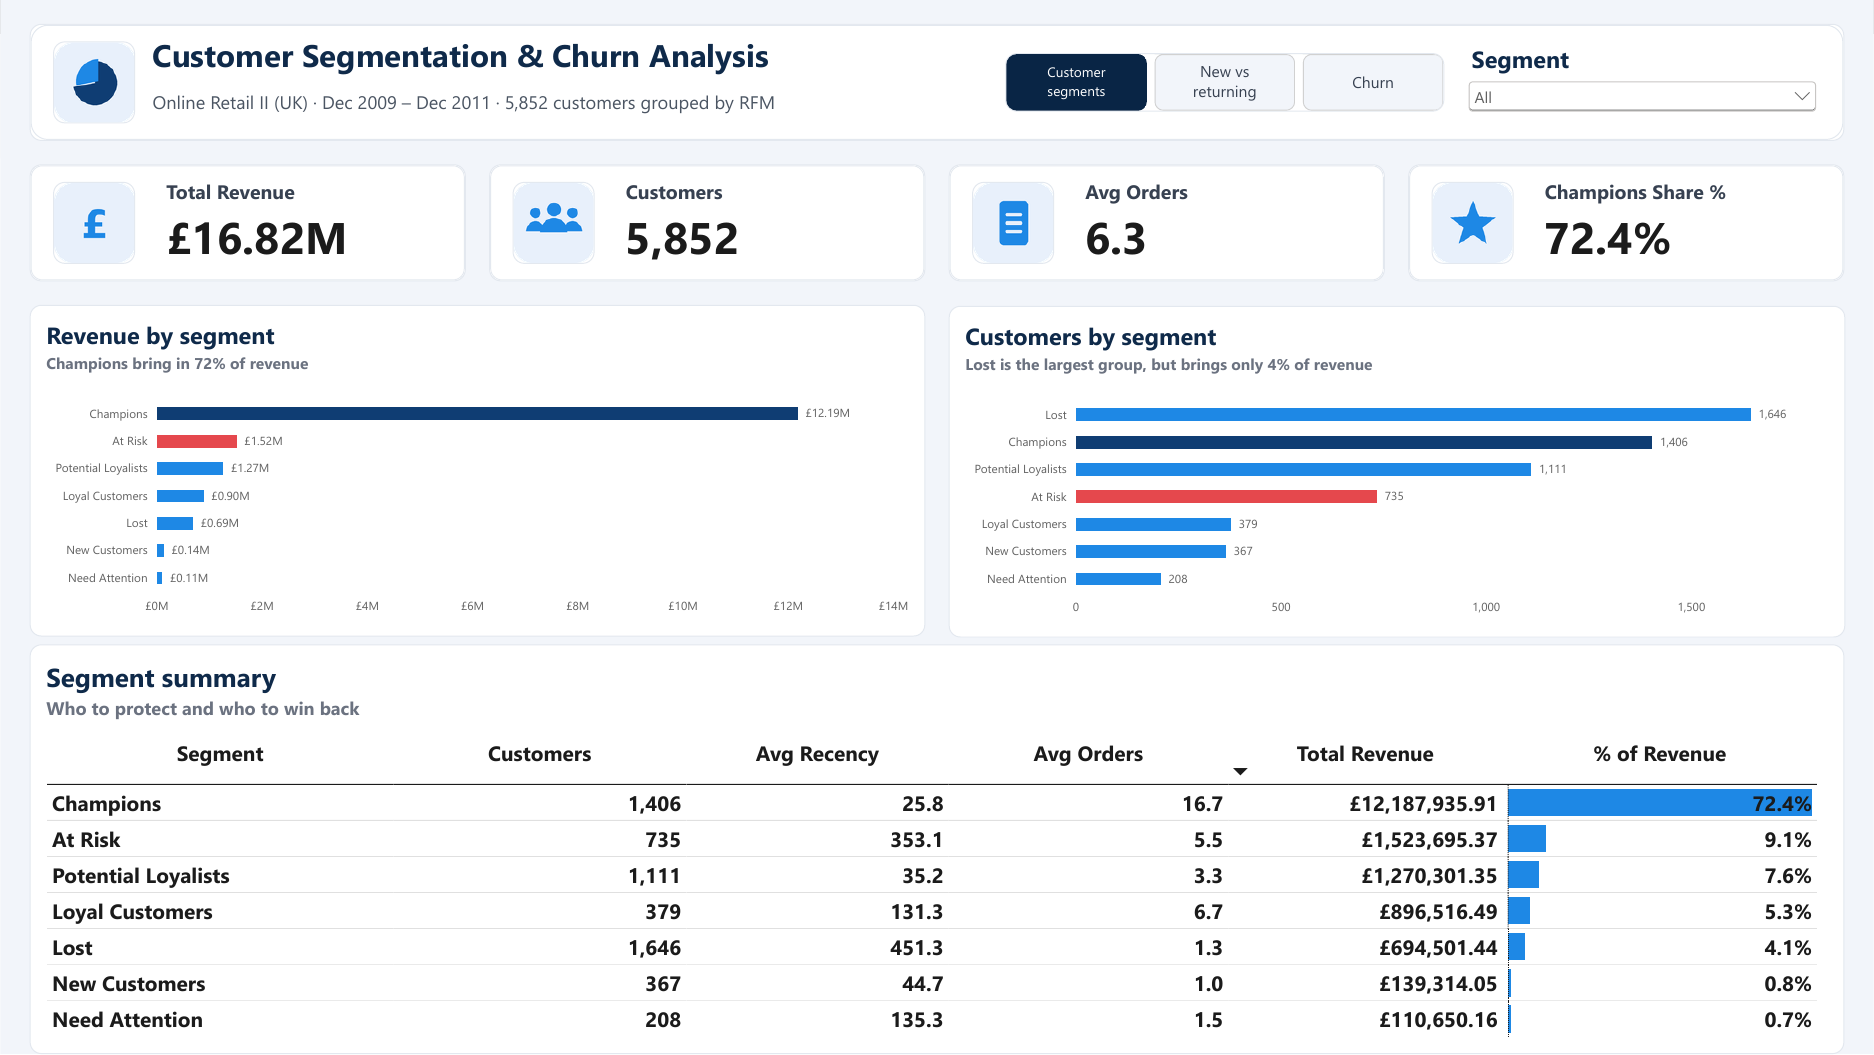

The page's visual inventory and layout, read from the dashboard file:
{"tool":"powerbi","page":{"name":"Customer segments","canvas":[1920,1080],"ordinal":0},"visuals":[{"type":"clusteredBarChart","title":"Revenue by segment","fields":{"Category":["rfm_segments.Segment"],"Y":["rfm_segments.Total Revenue"]},"box":[30,312,918,340],"z":0},{"type":"clusteredBarChart","title":"Customers by segment","fields":{"Category":["rfm_segments.Segment"],"Y":["rfm_segments.Customers"]},"box":[971.6,312.5,919.5,340],"z":1000},{"type":"shape","box":[30,24,1860,120],"z":2000},{"type":"image","box":[54,42,84,84],"z":3000},{"type":"textbox","box":[156,34,860,56],"z":4000},{"type":"textbox","box":[156,92,860,40],"z":5000},{"type":"pageNavigator","box":[1030,54,450,60],"z":6000},{"type":"slicer","fields":{"Values":["rfm_segments.Segment"]},"box":[1500,44,366,80],"z":7000},{"type":"shape","box":[30,168,447,120],"z":8000},{"type":"shape","box":[501,168,447,120],"z":9000},{"type":"shape","box":[1443,168,447,120],"z":10000},{"type":"shape","box":[972,168,447,120],"z":11000},{"type":"image","box":[54,186,84,84],"z":12000},{"type":"image","box":[1467,186,84,84],"z":13000},{"type":"image","box":[996,186,84,84],"z":14000},{"type":"image","box":[525,186,84,84],"z":15000},{"type":"cardVisual","fields":{"Data":["rfm_segments.Total Revenue"]},"box":[154,180,300,96],"z":16000},{"type":"cardVisual","fields":{"Data":["rfm_segments.Champions Share %"]},"box":[1567,180,300,96],"z":17000},{"type":"cardVisual","fields":{"Data":["rfm_segments.Customers Display"]},"box":[625,180,300,96],"z":18000},{"type":"cardVisual","fields":{"Data":["rfm_segments.Avg Orders"]},"box":[1096,180,300,96],"z":19000},{"type":"tableEx","title":"Segment summary","fields":{"Values":["rfm_segments.Segment","rfm_segments.Customer","rfm_segments.Avg Recency","rfm_segments.Avg Orders","rfm_segments.Total Revenue","rfm_segments.% of Revenue"]},"box":[29.6,660.3,1860.1,419.7],"z":20000}]}

Visuals, with their boxes in screenshot pixels (x1, y1, x2, y2), scaled from the page's 1920x1080 canvas onto the 1874x1055 screenshot:
"Revenue by segment" clusteredBarChart: [29,305,925,637]
"Customers by segment" clusteredBarChart: [948,305,1846,637]
shape: [29,23,1845,141]
image: [53,41,135,123]
textbox: [152,33,992,88]
textbox: [152,90,992,129]
pageNavigator: [1005,53,1445,111]
slicer - rfm_segments.Segment: [1464,43,1821,121]
shape: [29,164,466,281]
shape: [489,164,925,281]
shape: [1408,164,1845,281]
shape: [949,164,1385,281]
image: [53,182,135,264]
image: [1432,182,1514,264]
image: [972,182,1054,264]
image: [512,182,594,264]
cardVisual - rfm_segments.Total Revenue: [150,176,443,270]
cardVisual - rfm_segments.Champions Share %: [1529,176,1822,270]
cardVisual - rfm_segments.Customers Display: [610,176,903,270]
cardVisual - rfm_segments.Avg Orders: [1070,176,1363,270]
"Segment summary" tableEx: [29,645,1844,1054]
